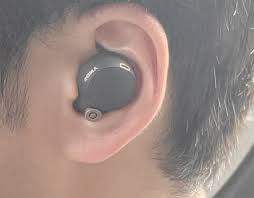earphone: (58, 3, 169, 165)
